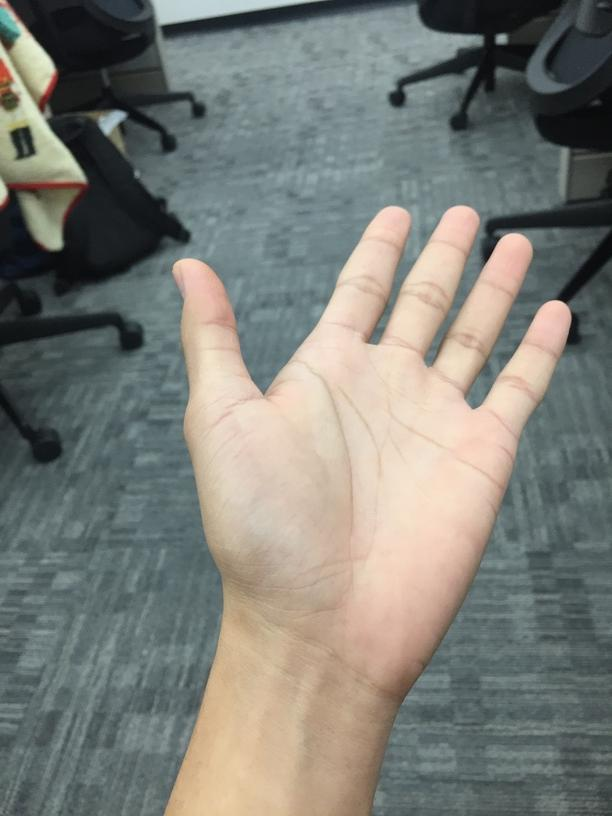hand: (170, 200, 574, 692)
